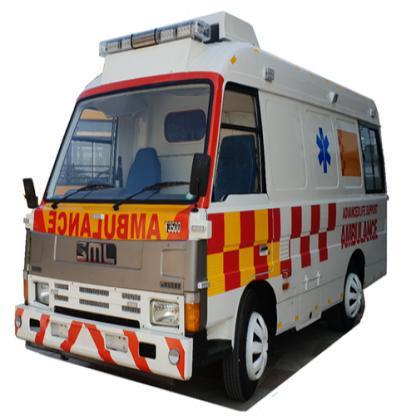Ambulance - v1 Ambulance last generate: (11, 12, 391, 402)
